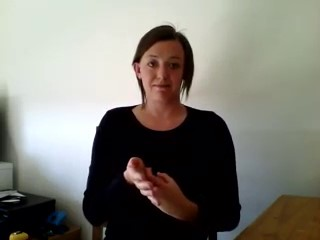R: (123, 153, 196, 223)
